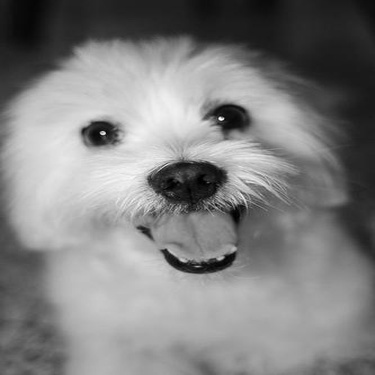dog: (3, 3, 370, 373)
